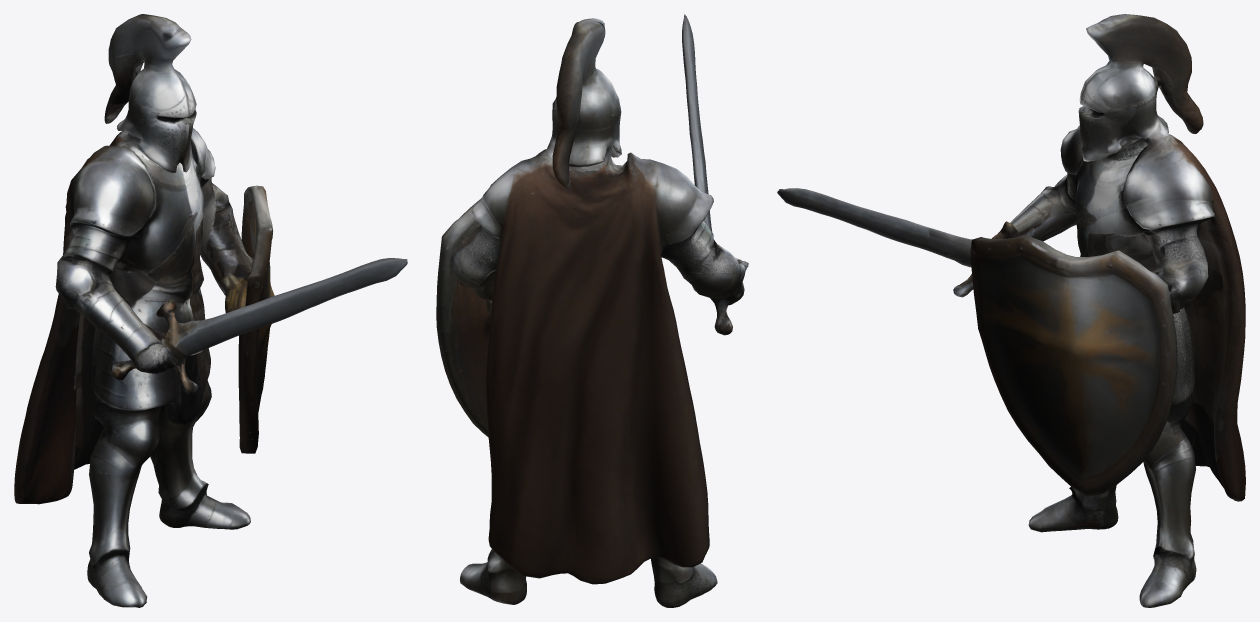
File: knight.glb
3 renders of one model, left to right at view 1: azimuth 30°, elevation 25°; view 2: azimuth 150°, elevation 25°; view 3: azimuth 270°, elevation 25°, orthographic. The views are drawn at different scales.
Bounding box in the file's own units: 0.9592 × 2 × 1.55.
Materials: 1 (1 with a texture image).
